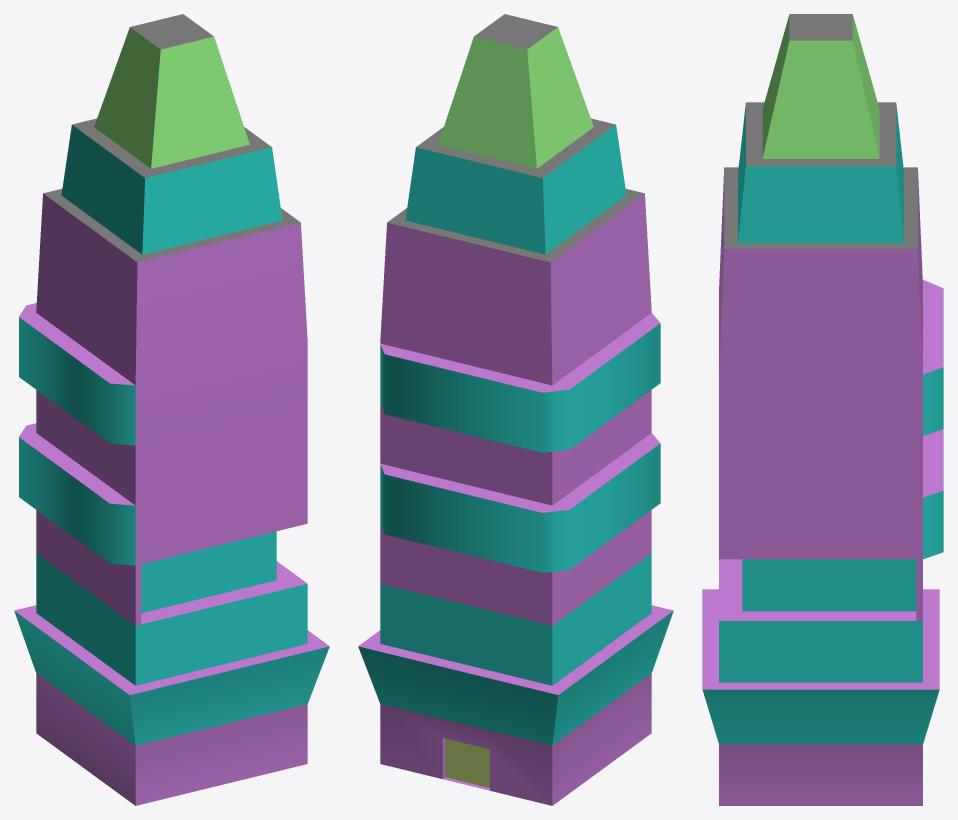
The model's file is cladire.fbx.
3 renders of one model, left to right at view 1: azimuth 30°, elevation 25°; view 2: azimuth 150°, elevation 25°; view 3: azimuth 270°, elevation 25°, orthographic. The views are drawn at different scales.
Visible parts, largest first — view 1: cladire001; view 2: cladire001; view 3: cladire001.
Part boxes in pixels (x1,y1,x2,y2): cladire001: (14, 14, 329, 805); cladire001: (358, 14, 673, 805); cladire001: (702, 14, 943, 805).
Size of the model in its own units: 59.06 by 199 by 59.06.
